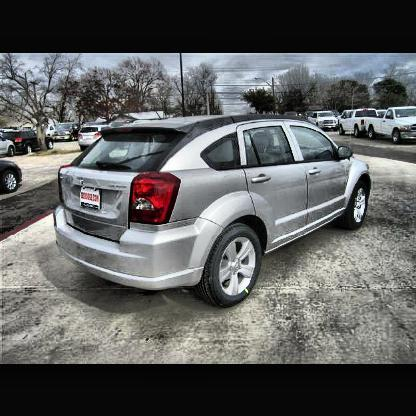Dodge Caliber Wagon 2012: (54, 117, 370, 309)
